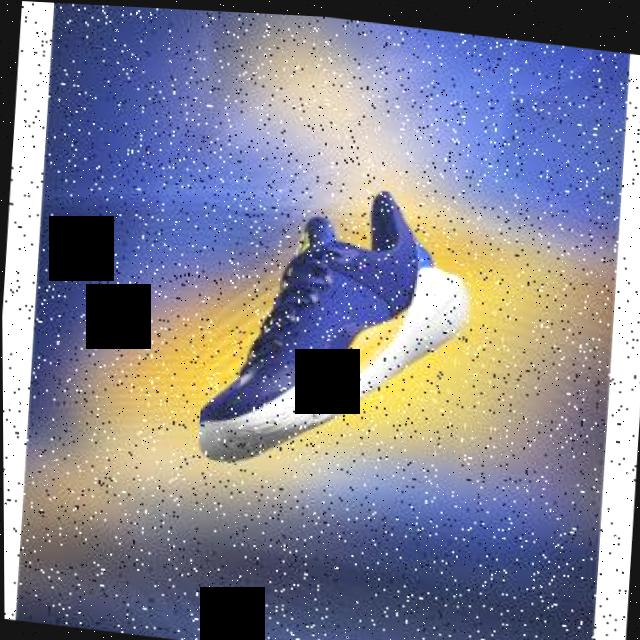shoe: (194, 167, 478, 486)
